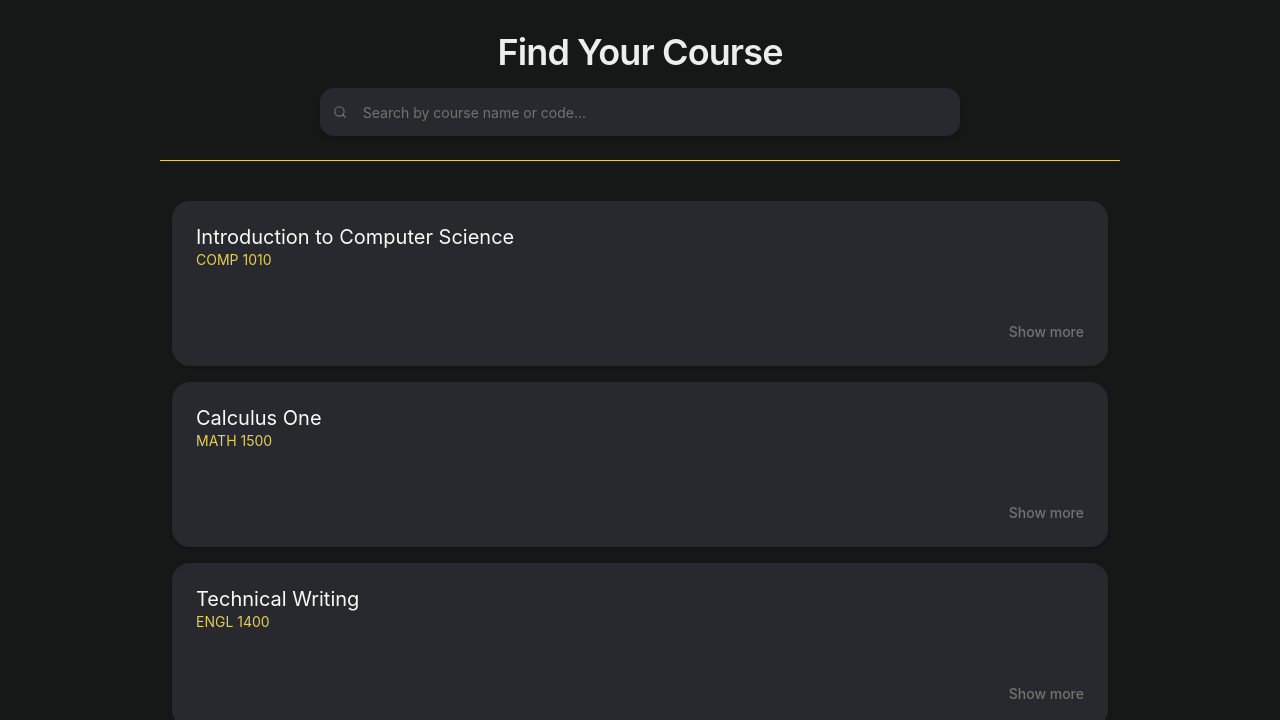
Test: Home — expand and collapse › shows prerequisite info when expanded
This screenshot has width=1280, height=720.
Expected: the text "Calculus One" is shown, [196,406,322,430]
Click the 2nd button "Show more" at point(1046, 513), box [1009,503,1084,523]
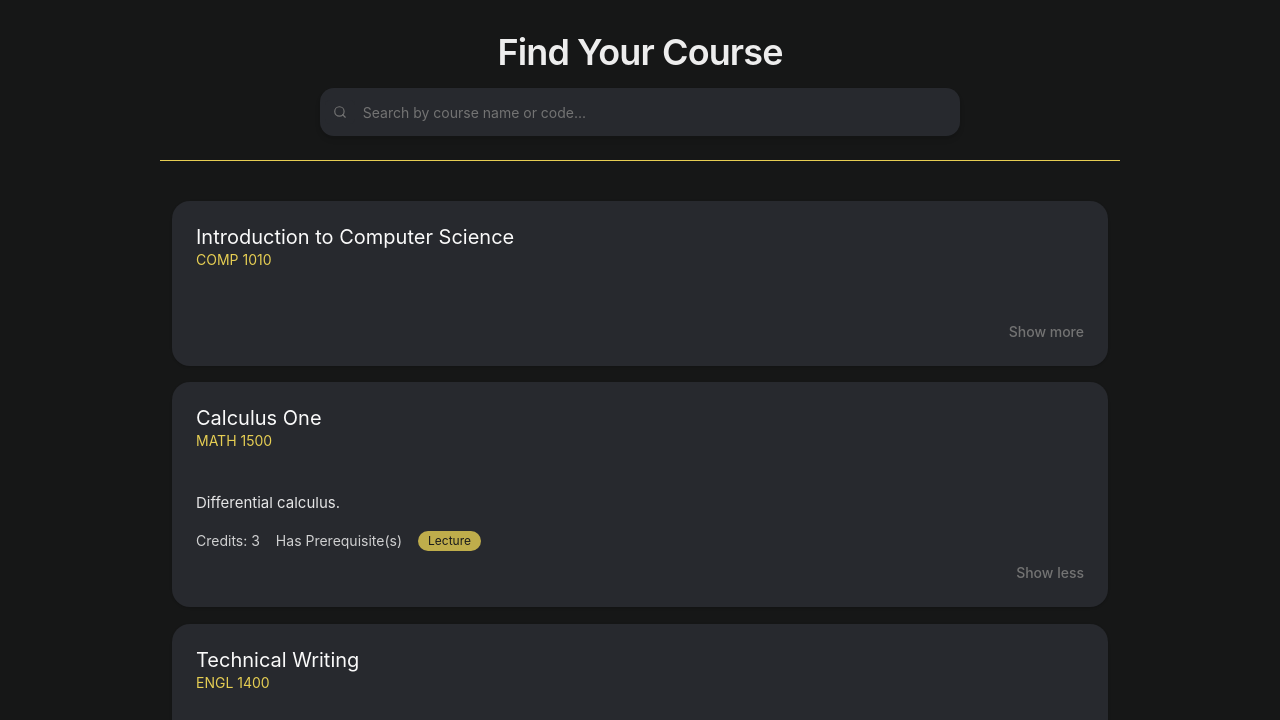
Now the text "Has Prerequisite(s)" is shown, box [276,531,402,551]
